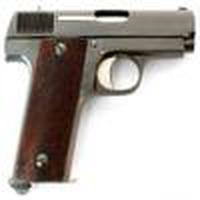gun: (6, 10, 196, 200)
